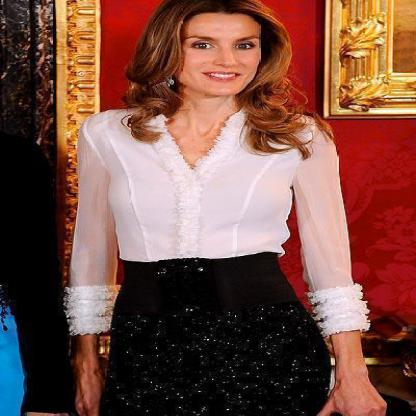long-hair: (121, 96, 298, 137)
